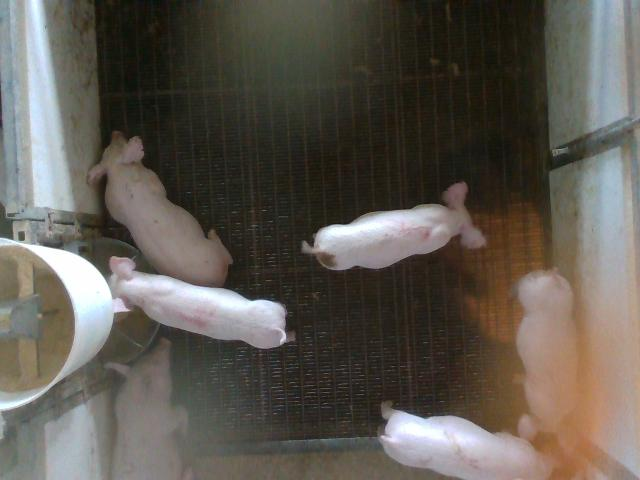pig-4: (110, 256, 290, 349)
pig-5: (301, 181, 486, 269)
